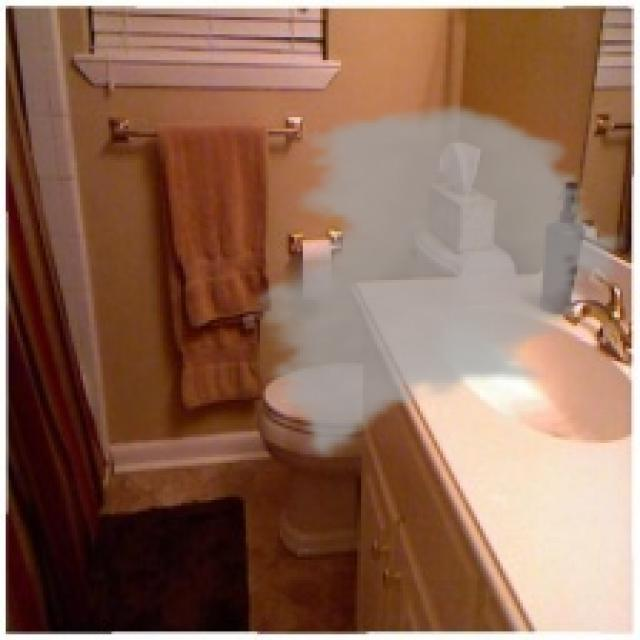smoke: (243, 100, 631, 460)
